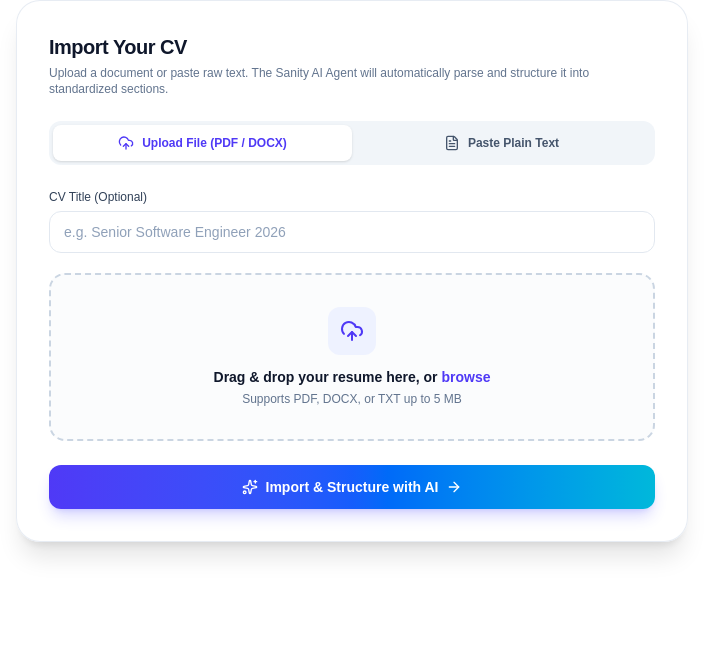
Scenario: CVs UI Components Tests › renders ImportForm and switches tabs between File Upload and Plain Text
This screenshot has width=705, height=648.
expect the button with test id "tab-upload" is shown: met, box [53,125,352,161]
expect the element with test id "file-dropzone" is shown: met, box [49,273,655,441]
Note: Switch to text tab
Click the button with test id "tab-text": (502, 143) [352,125,651,161]
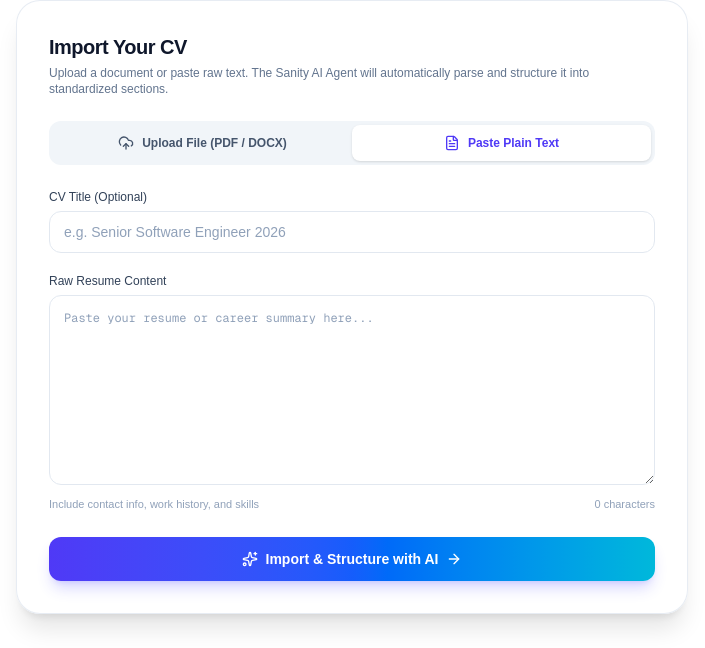
expect the text box with test id "raw-text-input" is shown: met, box [49,295,655,485]
expect the element with test id "file-dropzone" is gone: met
